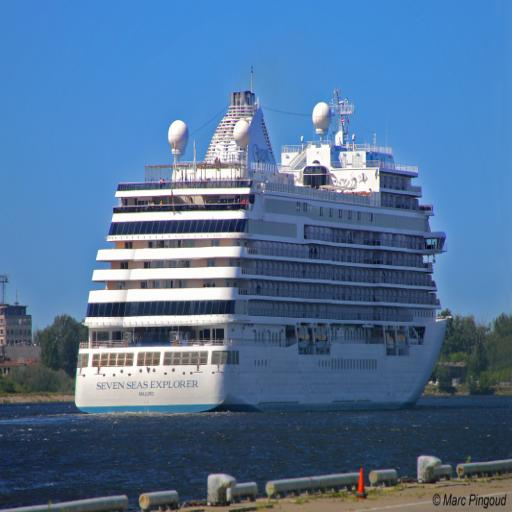cruises: (72, 86, 455, 421)
